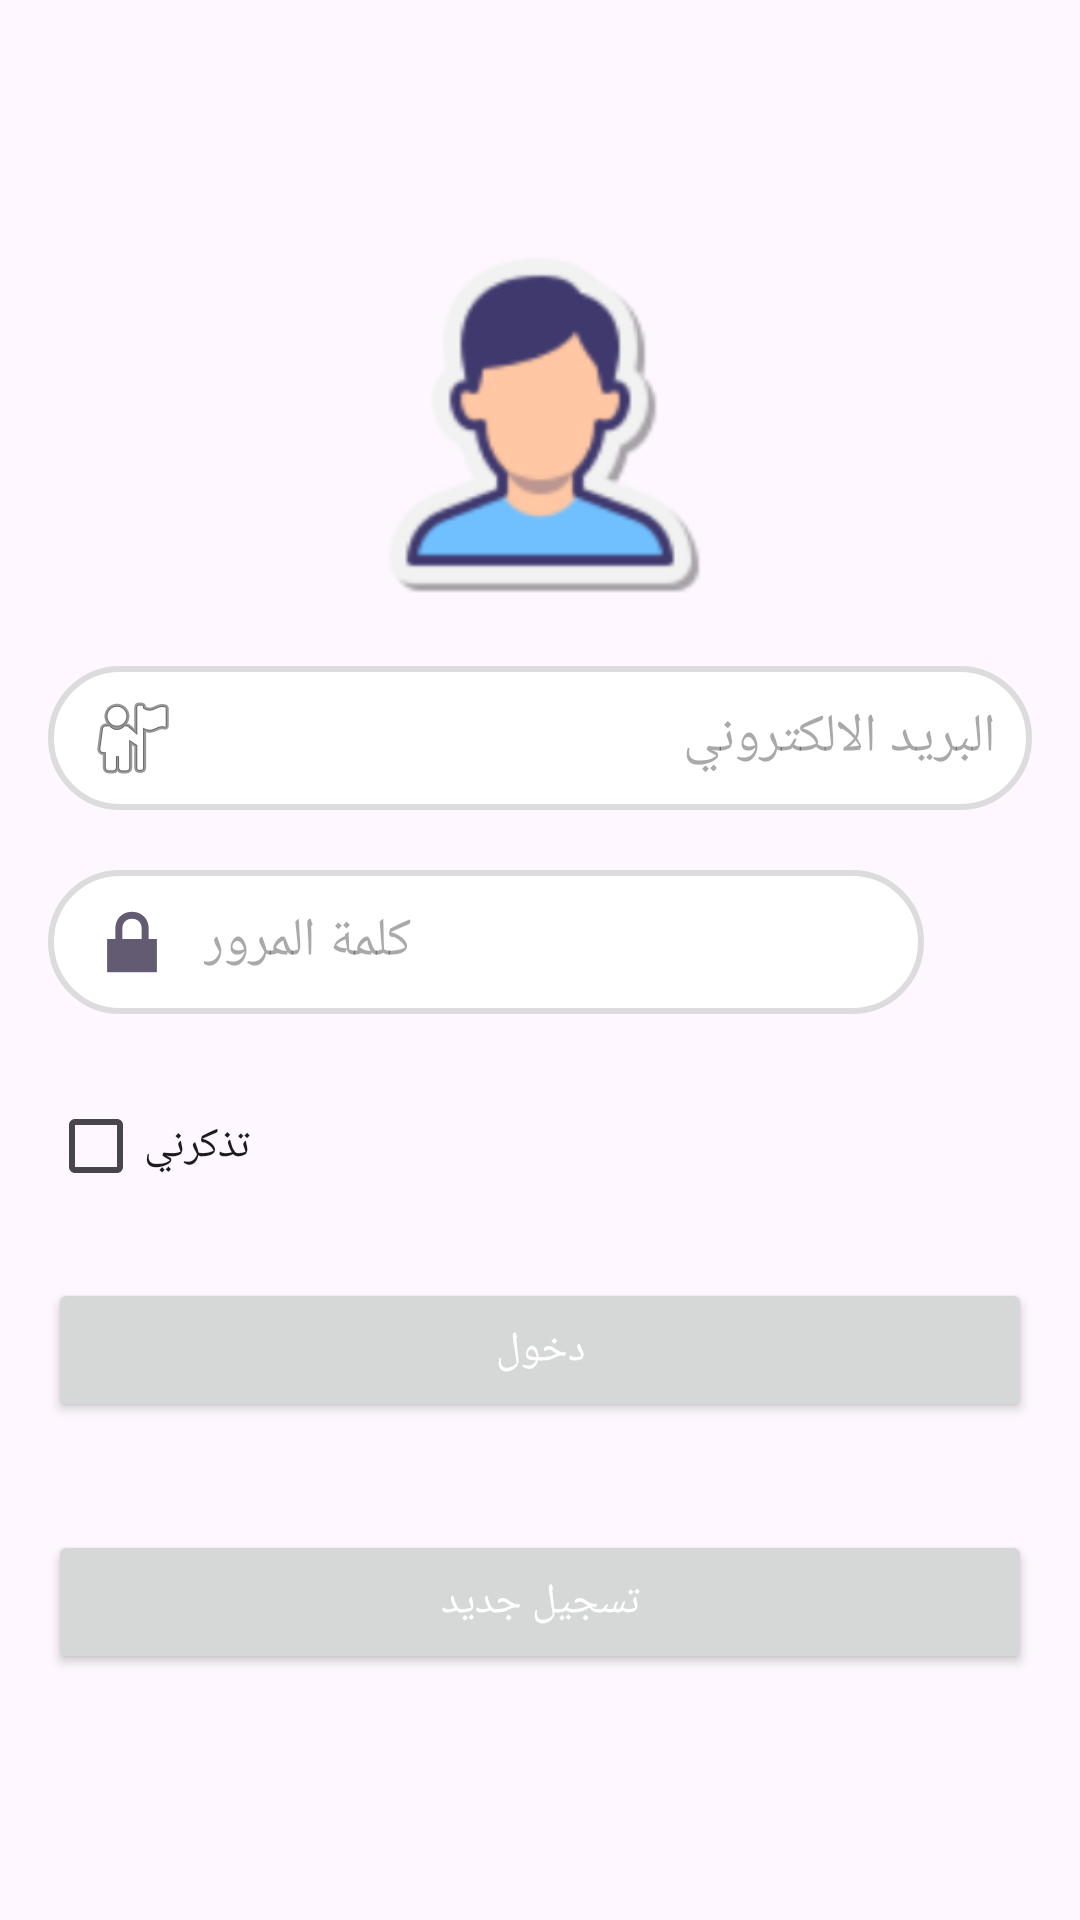

Icons on this 1080×1920 Android screen, each with the point to tap as (x,y):
Profile Image: (550,433)
